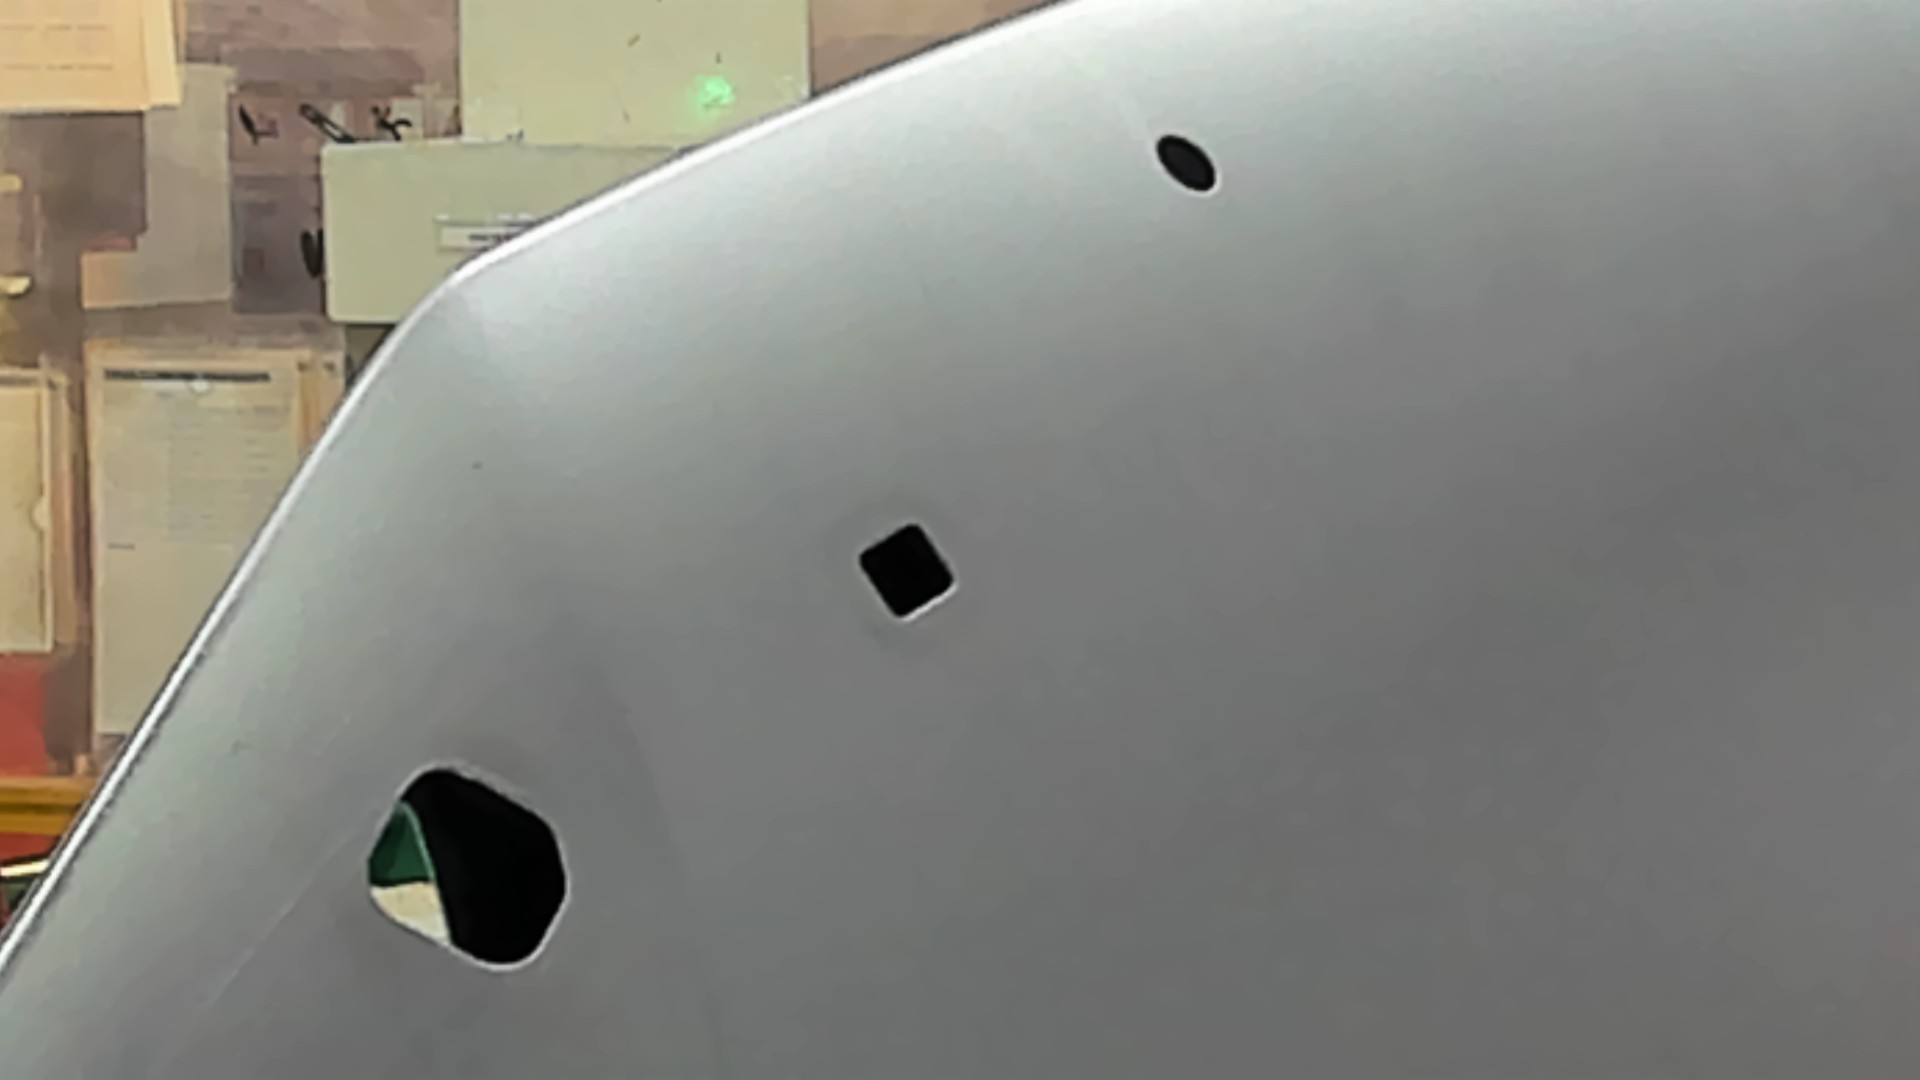chico: (1133, 111, 1250, 224)
grande: (338, 745, 607, 1001)
mediano: (837, 505, 1005, 654)
